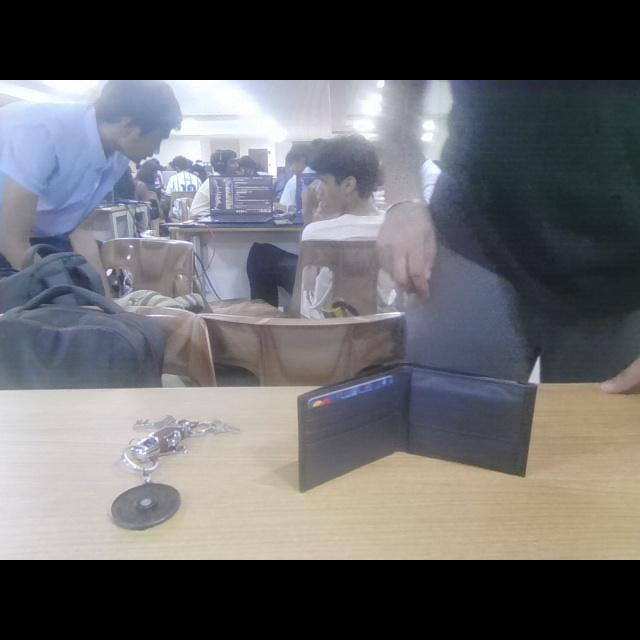keys: (294, 356, 546, 498), (94, 404, 262, 530)
wallet: (294, 352, 548, 506)
